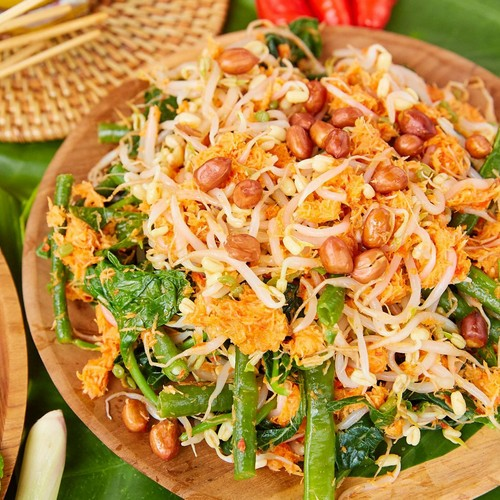serombotan: (142, 113, 500, 482)
